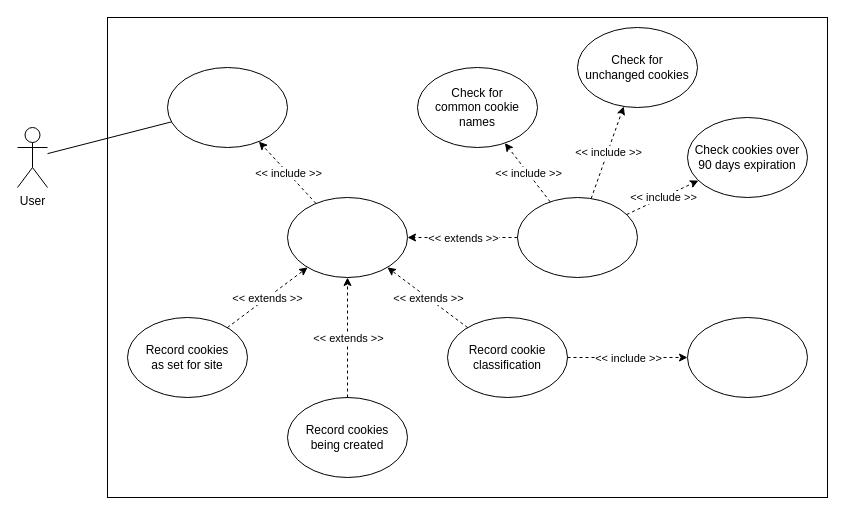
This 845x515 diagram has some shape labels left out. Each missing label, with the centre of its shape:
"Record cookies" goes at pixel 347 237.
"Record likely ID cookies" goes at pixel 577 237.
"Retrieve cookie classification" goes at pixel 747 357.
"View website pages" goes at pixel 227 107.
